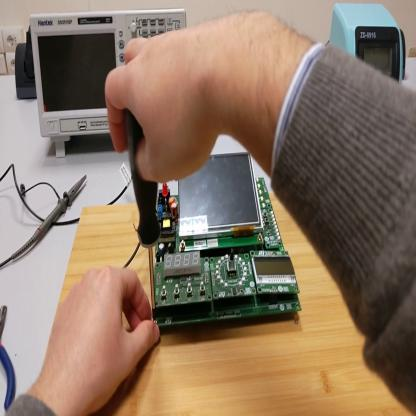hand: (105, 26, 223, 187), (44, 264, 159, 414)
low voltage board: (128, 151, 302, 326)
oscilloscope: (30, 11, 185, 157)
oscilloscope probe tip: (12, 178, 87, 265)
pliers: (2, 300, 16, 412)
screwdriver-: (124, 103, 162, 324)
socket: (16, 42, 39, 103)
welder station: (329, 4, 404, 90)
working area: (61, 194, 414, 416)
